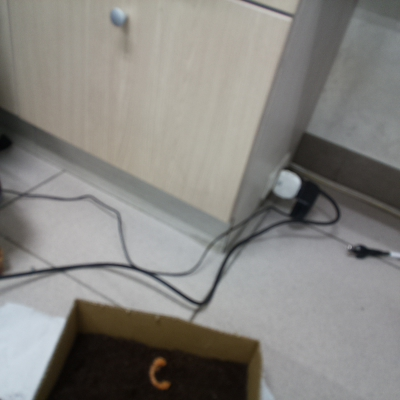eggs: (140, 353, 181, 392)
